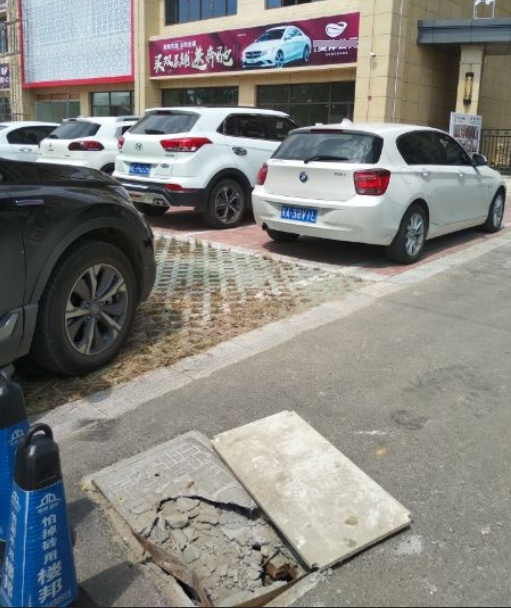well: (21, 410, 415, 607)
